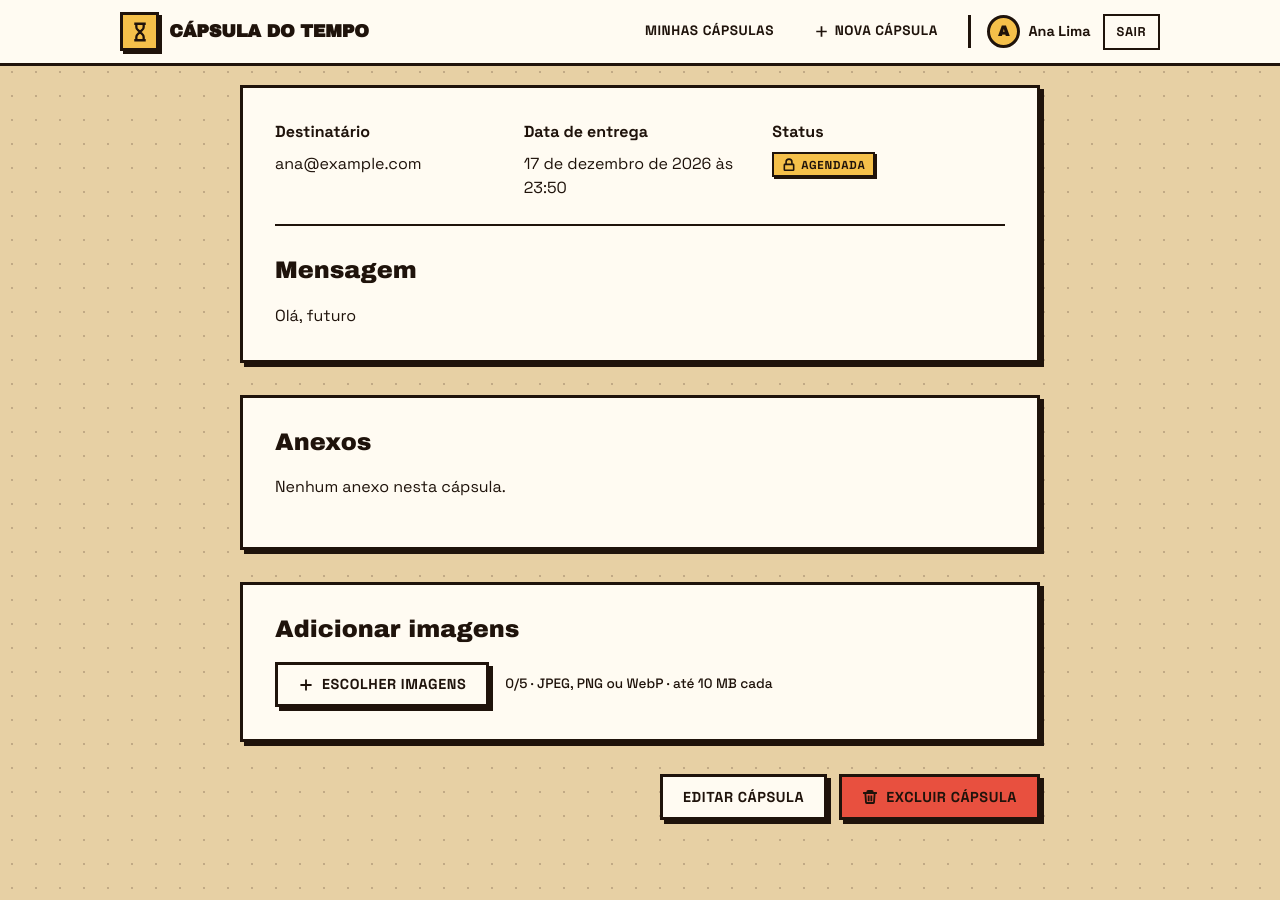
Test: editing a scheduled capsule › opens the form with the current values
(page scrolled)
Click the button "Editar cápsula".
click(744, 797)  # box [660,774,827,820]
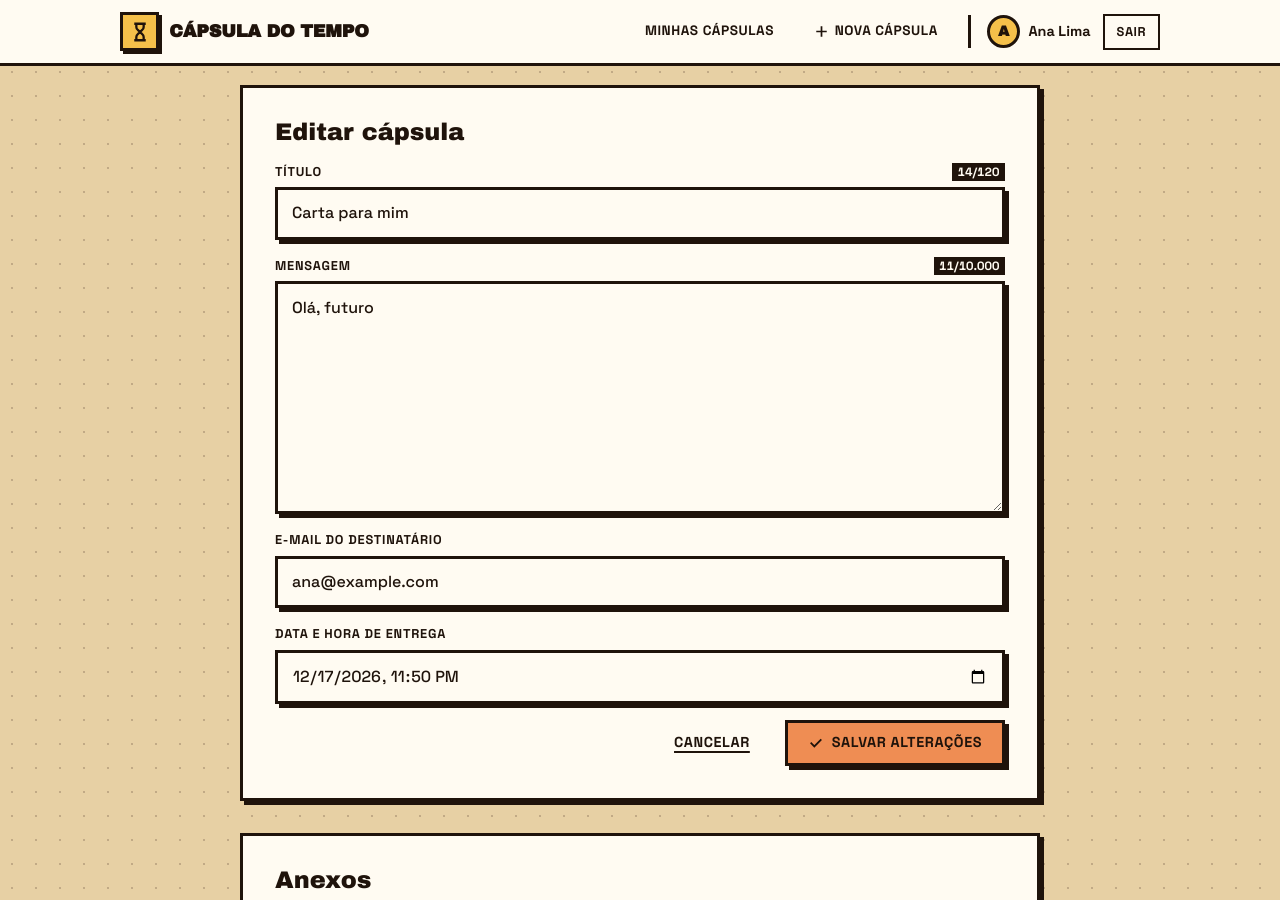
Check: the field labelled "Título" holds "Carta para mim", box [275,187,1005,240]
Check: the text box labelled "Mensagem" holds "Olá, futuro", box [275,281,1005,514]
Check: the field labelled "E-mail do destinatário" holds "ana@example.com", box [275,556,1005,608]
